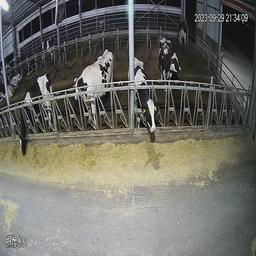cow: (126, 50, 166, 166), (74, 43, 121, 129), (13, 76, 59, 163), (156, 31, 183, 89), (38, 36, 57, 63)
